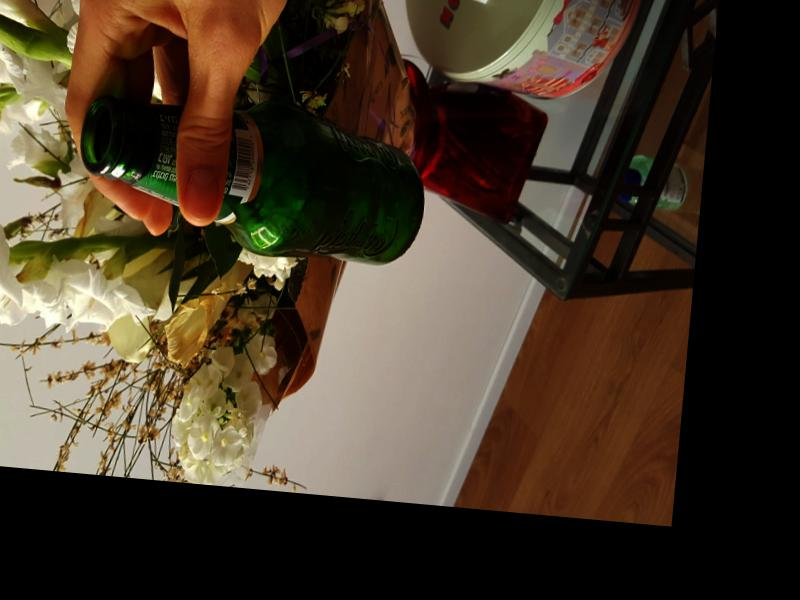Beer: (74, 85, 433, 271)
